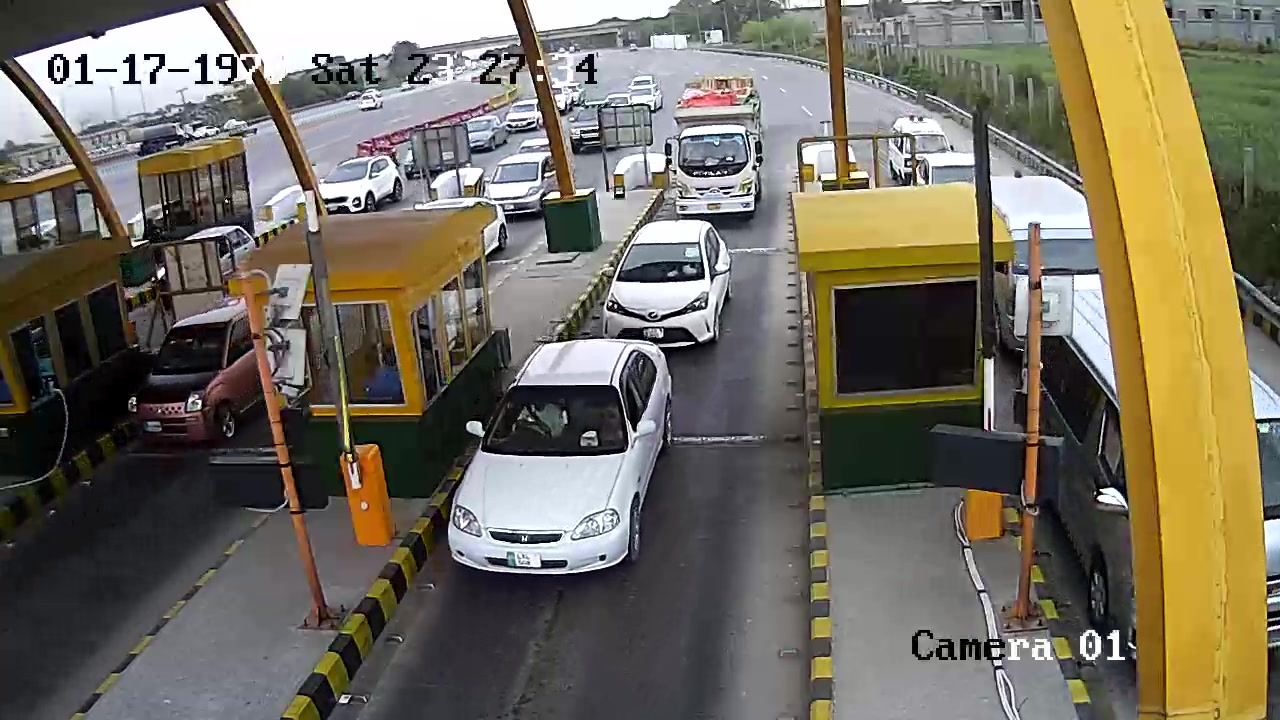F1: (445, 338, 690, 580), (600, 215, 742, 354)
